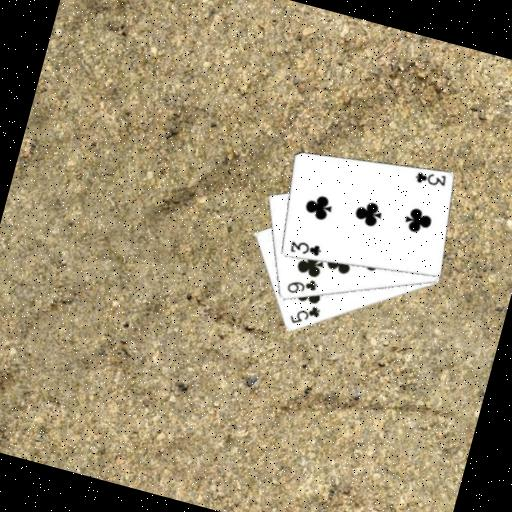3C: (410, 165, 448, 191), (286, 235, 324, 260)
5C: (285, 297, 323, 331)
9C: (282, 270, 320, 301)
